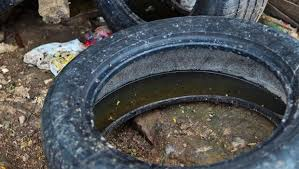tire: (40, 15, 299, 168)
